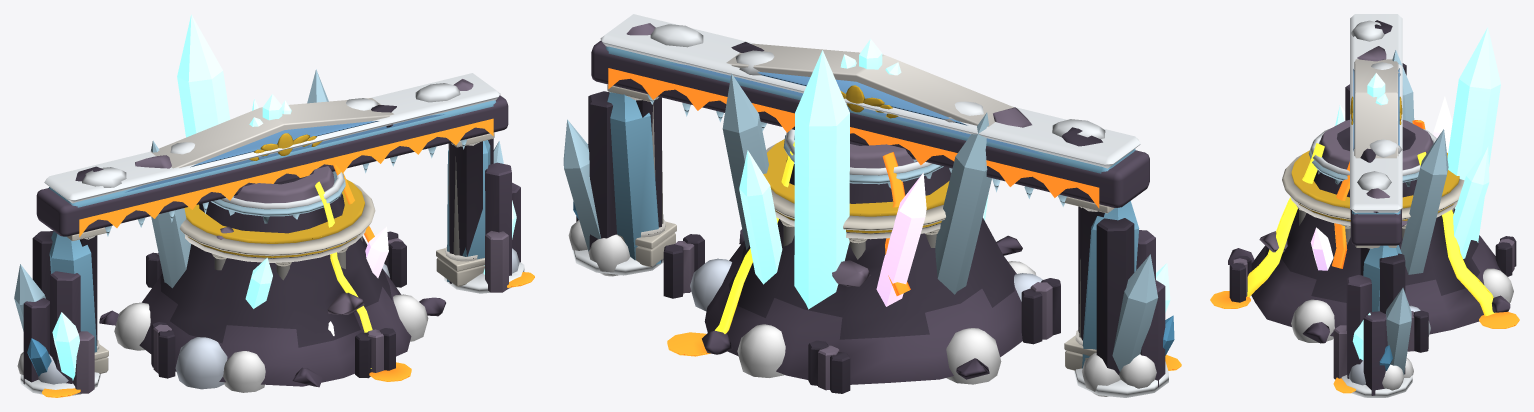
Rendered from props_biomes_b.glb.
3 renders of one model, left to right at view 1: azimuth 30°, elevation 25°; view 2: azimuth 150°, elevation 25°; view 3: azimuth 270°, elevation 25°, orthographic. The views are drawn at different scales.
Visible parts, largest first — view 1: B_volcano_landmark, B_volcano_arch, B_ice_arch, B_sky_landmark, B_sky_arch, B_ice_landmark; view 2: B_volcano_landmark, B_ice_arch, B_ice_landmark, B_volcano_arch, B_sky_arch, B_sky_landmark; view 3: B_volcano_landmark, B_ice_landmark, B_ice_arch, B_volcano_arch, B_sky_landmark, B_sky_arch.
Part boxes in pixels (x1=…): B_volcano_landmark: x1=99, y1=165, x2=445, y2=387; B_volcano_arch: x1=23, y1=79, x2=534, y2=397; B_ice_arch: x1=14, y1=73, x2=524, y2=395; B_sky_landmark: x1=114, y1=179, x2=428, y2=392; B_sky_arch: x1=17, y1=98, x2=519, y2=384; B_ice_landmark: x1=151, y1=14, x2=388, y2=335; B_volcano_landmark: x1=663, y1=141, x2=1060, y2=393; B_ice_arch: x1=563, y1=14, x2=1174, y2=397; B_ice_landmark: x1=722, y1=50, x2=991, y2=309; B_volcano_arch: x1=576, y1=23, x2=1181, y2=387; B_sky_arch: x1=568, y1=43, x2=1156, y2=396; B_sky_landmark: x1=690, y1=139, x2=1042, y2=384; B_volcano_landmark: x1=1210, y1=120, x2=1519, y2=352; B_ice_landmark: x1=1308, y1=27, x2=1500, y2=274; B_ice_arch: x1=1335, y1=14, x2=1412, y2=397; B_volcano_arch: x1=1333, y1=20, x2=1406, y2=395; B_sky_landmark: x1=1282, y1=150, x2=1513, y2=342; B_sky_arch: x1=1348, y1=59, x2=1413, y2=390.
Size of the model in its own units: 43.07 by 23.57 by 25.36.
